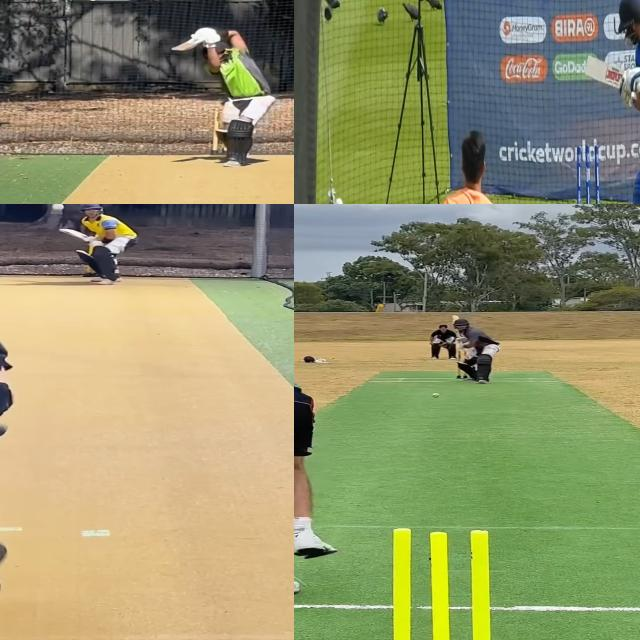Cricket ball: (50, 204, 65, 211), (333, 195, 344, 204), (428, 392, 444, 398)
Stumps: (372, 524, 523, 640), (571, 142, 604, 204)
